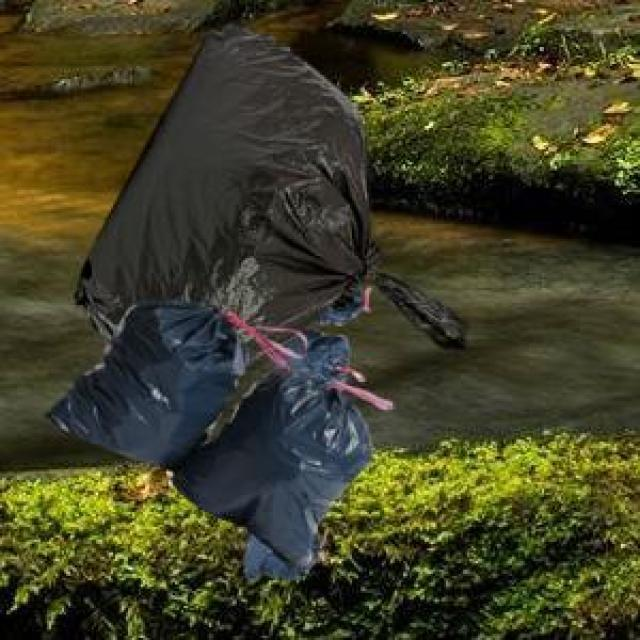Vinyl: (50, 26, 391, 579)
